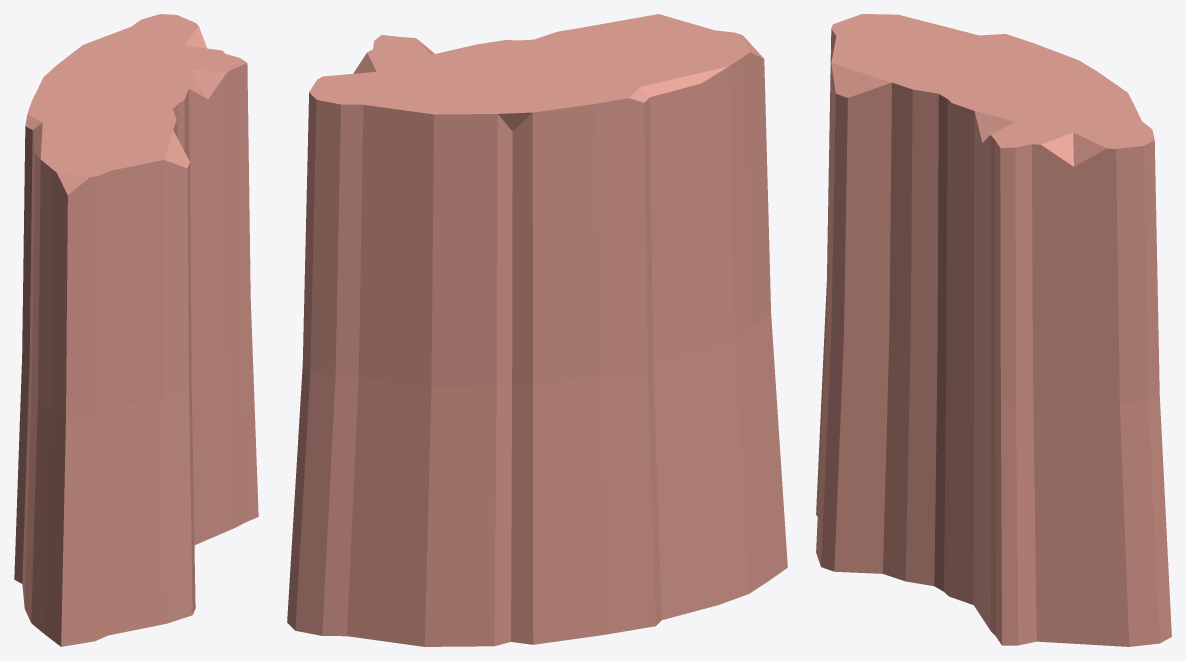
Rendered from SuperGrid_RingQuarter_022_Vlad.fbx.
The picture shows the model from 3 angles, left to right: view 1: azimuth 30°, elevation 25°; view 2: azimuth 150°, elevation 25°; view 3: azimuth 270°, elevation 25°; orthographic projection. The views are drawn at different scales.
Visible parts, largest first — view 1: SuperGrid_RingQuarter.022; view 2: SuperGrid_RingQuarter.022; view 3: SuperGrid_RingQuarter.022.
Part boxes in pixels (x1=…): SuperGrid_RingQuarter.022: x1=14, y1=14, x2=258, y2=646; SuperGrid_RingQuarter.022: x1=287, y1=14, x2=787, y2=646; SuperGrid_RingQuarter.022: x1=816, y1=14, x2=1171, y2=646.
Size of the model in its own units: 324 by 500 by 328.
